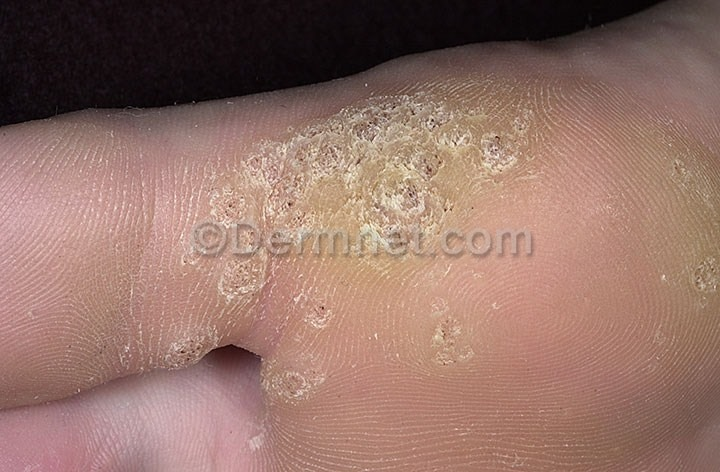Warts: (232, 94, 546, 214)
